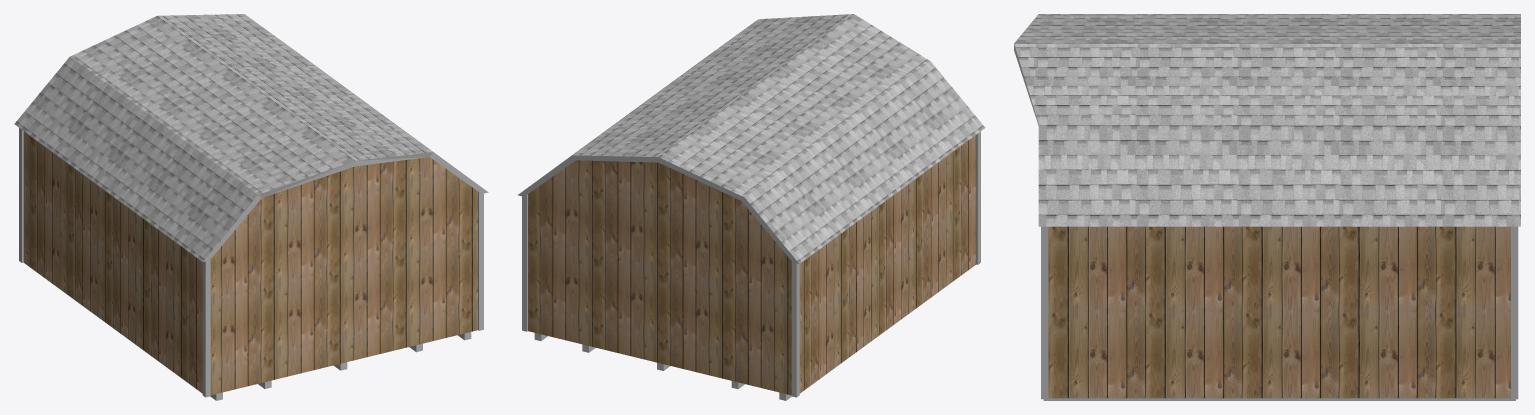
The model's file is High Wall Barns_14x16.obj.
3 renders of one model, left to right at view 1: azimuth 30°, elevation 25°; view 2: azimuth 150°, elevation 25°; view 3: azimuth 270°, elevation 25°, orthographic. The views are drawn at different scales.
Visible parts, largest first — view 1: Shed, Roof, Trim, Sides, Floor; view 2: Shed, Roof, Trim, Sides; view 3: Roof, Shed, Trim, Floor.
Boxes of the visible parts, x1,y1,x2,y2 form: Shed: [23, 131, 477, 395]; Roof: [14, 14, 465, 261]; Trim: [19, 128, 483, 397]; Sides: [203, 152, 488, 261]; Floor: [210, 332, 471, 400]; Shed: [528, 135, 976, 395]; Roof: [543, 14, 985, 263]; Trim: [522, 131, 980, 397]; Sides: [518, 155, 798, 263]; Roof: [1014, 14, 1520, 226]; Shed: [1048, 226, 1510, 398]; Trim: [1041, 226, 1518, 399]; Floor: [1043, 398, 1515, 400].
Size of the model in its own units: 4.36 by 3.17 by 5.23.
